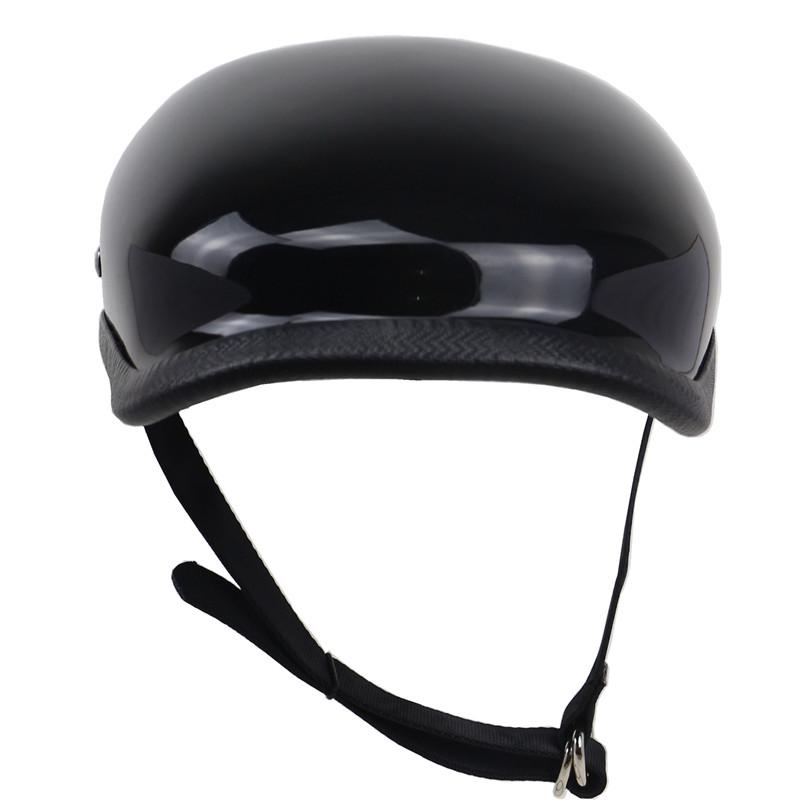with_helmet: (78, 34, 733, 438)
